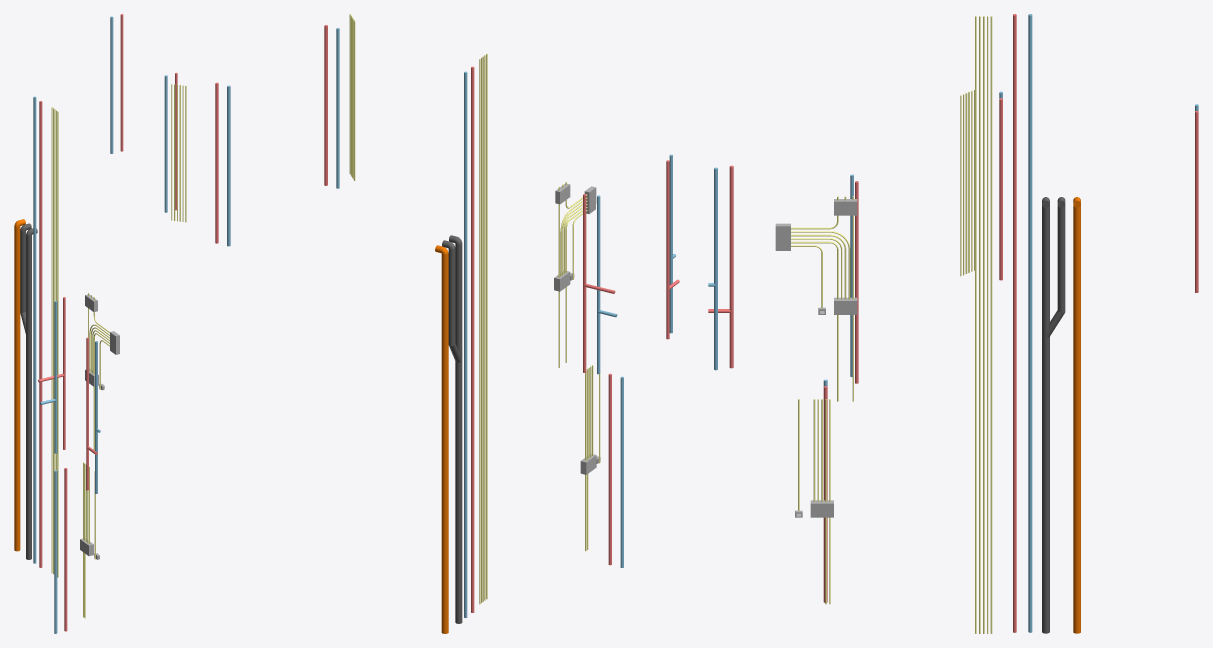
The model's file is townhouse_pipe.glb.
The picture shows the model from 3 angles, left to right: view 1: azimuth 30°, elevation 25°; view 2: azimuth 150°, elevation 25°; view 3: azimuth 270°, elevation 25°; orthographic projection. The views are drawn at different scales.
Bounding box in the file's own units: 4.18 × 8.75 × 6.3.
